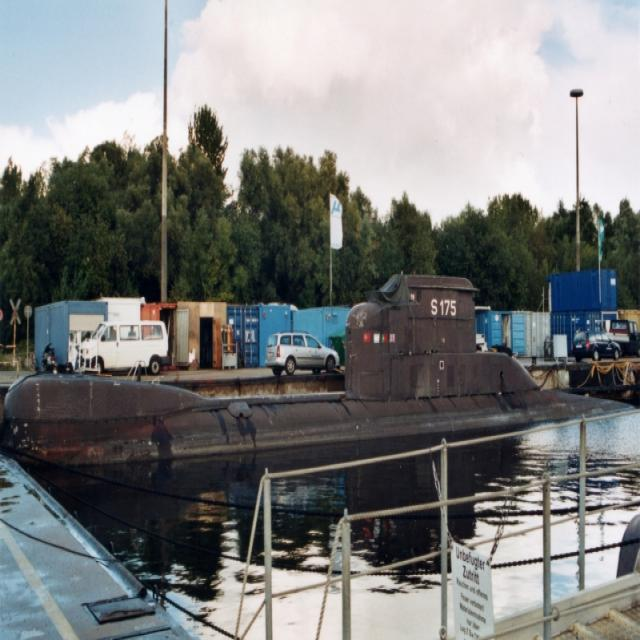submarine: (5, 273, 637, 458)
